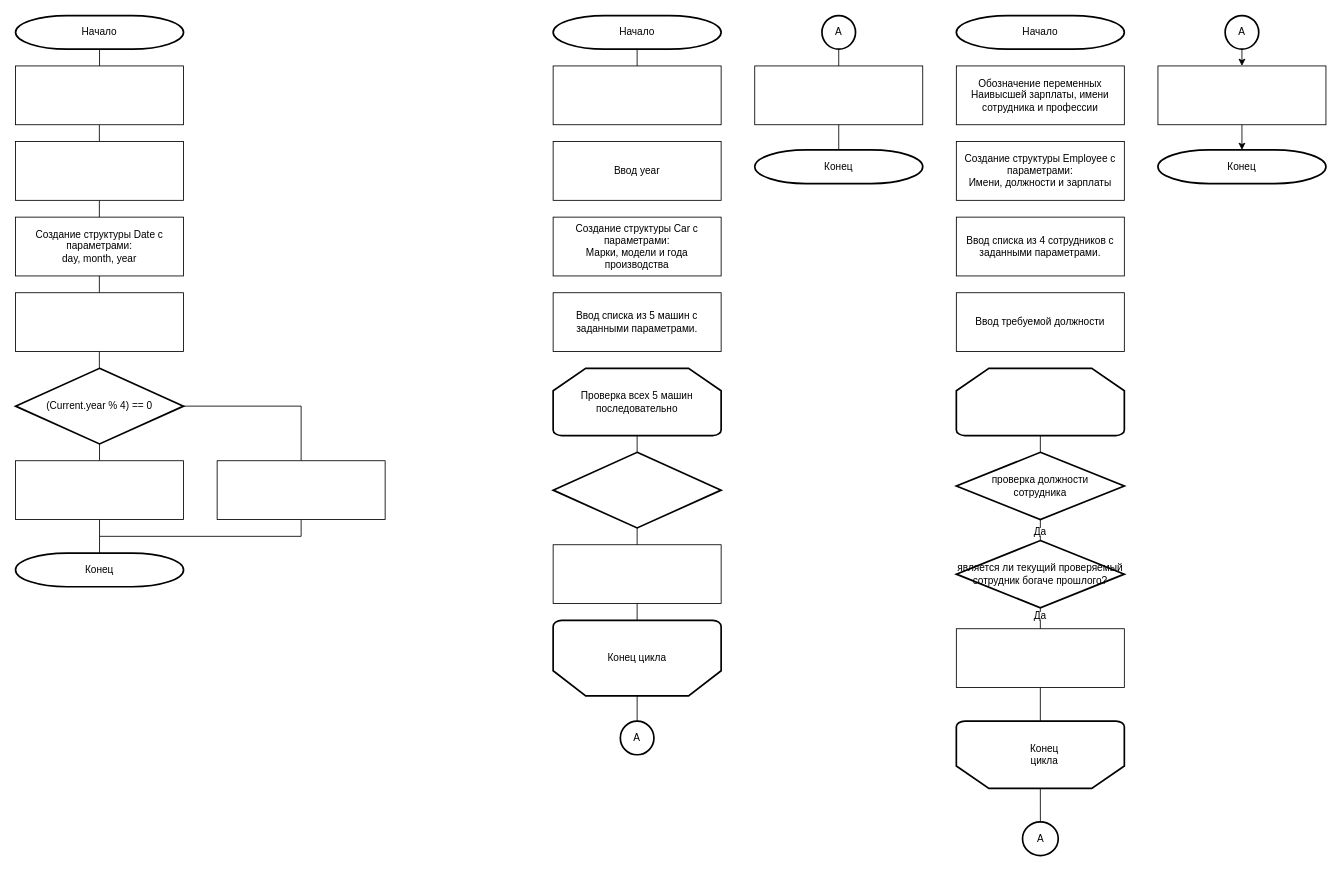
The diagram is 1341 pixels wide and 870 high, and some of its shapes have lost their labels. The shapes that lost their labels are listed below. From the top down, each one's centre as x and y in pixels, then its label:
point (99, 95): Обозначение переменных a, b, c
point (636, 95): Обозначение переменных count, year
point (838, 95): Вывод количества машин
point (1241, 95): Вывод самого высокооплачиваемого сотрудника
point (99, 170): Ввод a, b, c
point (99, 322): Ввод значений a, b, c в структуру Date
point (1040, 401): Проверка всех 4 сотрудников последовательно
point (99, 490): Вывод "Високосный"
point (300, 490): Вывод "Не високосный"
point (637, 489): Если год производства >= указанному ранее
point (636, 574): Увеличиваем счет удовлетворяющих условию Авто.
point (1040, 658): Обновление самого богатого сотрудника
